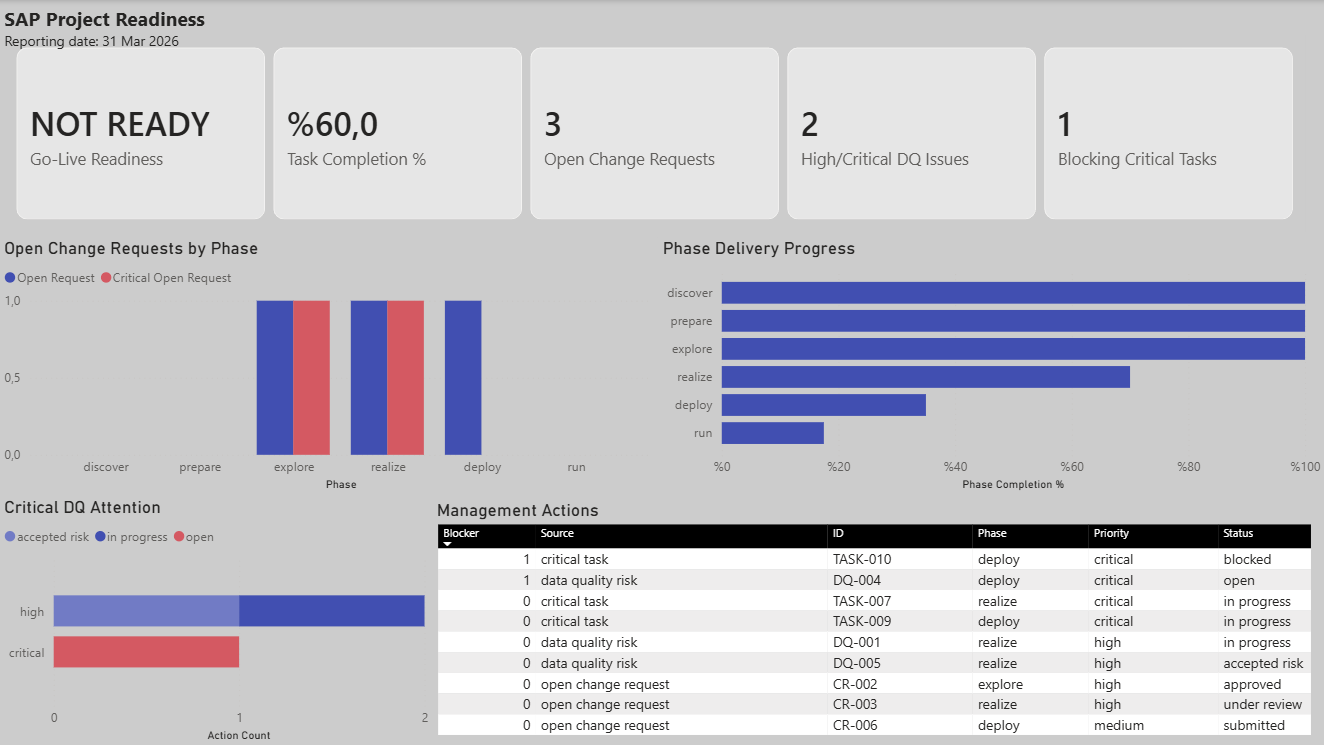

What the dashboard file says about the page in this screenshot:
{"tool":"powerbi","page":{"name":"SAP Project Readiness","canvas":[1280,720],"ordinal":2},"visuals":[{"type":"cardVisual","fields":{"Data":["project_readiness.Go-Live Readiness Label","project_readiness.Task Completion %","Sum(project_readiness.open_change_request_count)","Sum(project_readiness.unresolved_high_critical_data_quality_issue_count)","Sum(project_readiness.blocking_critical_pre_go_live_task_count)"]},"box":[0,28.8,1270.7,200.3],"z":0},{"type":"clusteredColumnChart","title":"Open Change Requests by Phase","fields":{"Category":["project_phases.activate_phase"],"Y":["Sum(project_phases.open_request_count)","Sum(project_phases.high_critical_open_request_count)"]},"box":[0,229.2,635.3,249.7],"z":1000},{"type":"barChart","title":"Phase Delivery Progress","fields":{"Category":["project_phases.activate_phase"],"Y":["project_phases.Average Phase Completion %"]},"box":[635.3,229.2,644.9,249.7],"z":2000},{"type":"barChart","title":"Critical DQ Attention","fields":{"Category":["project_actions.priority_or_severity"],"Y":["CountNonNull(project_actions.action_id)"],"Series":["project_actions.action_status"]},"box":[0,478.9,419.9,241.5],"z":3000},{"type":"tableEx","title":"Management Actions","fields":{"Values":["Sum(project_actions.hard_blocker_flag)","project_actions.action_source","project_actions.action_id","project_actions.activate_phase","project_actions.priority_or_severity","project_actions.action_status"]},"box":[419.9,478.9,860.4,241.5],"z":4000},{"type":"textbox","box":[0,0,292,54],"z":5000}]}

Visuals, with their boxes in screenshot pixels (x1, y1, x2, y2), scaled from the page's 1280x720 canvas onto the 1324x745 screenshot:
cardVisual - project_readiness.Go-Live Readiness Label x project_readiness.Task Completion %: l=0, t=30, r=1314, b=237
"Open Change Requests by Phase" clusteredColumnChart: l=0, t=237, r=657, b=496
"Phase Delivery Progress" barChart: l=657, t=237, r=1323, b=496
"Critical DQ Attention" barChart: l=0, t=496, r=434, b=744
"Management Actions" tableEx: l=434, t=496, r=1323, b=744
textbox: l=0, t=0, r=302, b=56
